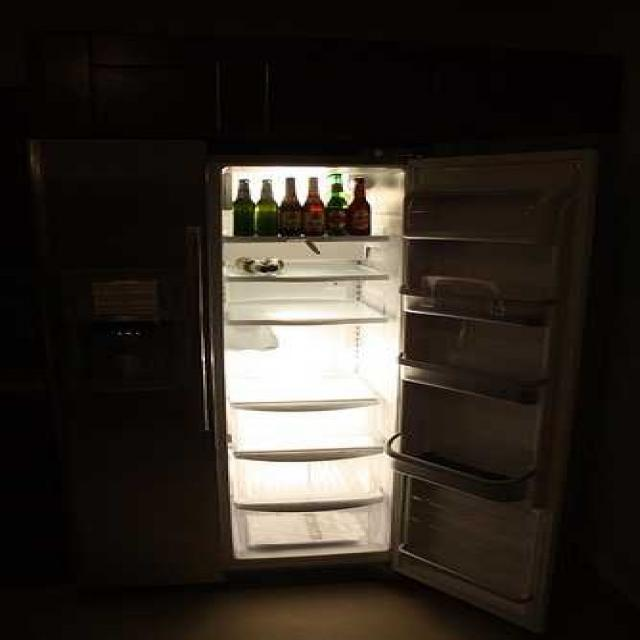refrigerator: (204, 149, 622, 635)
